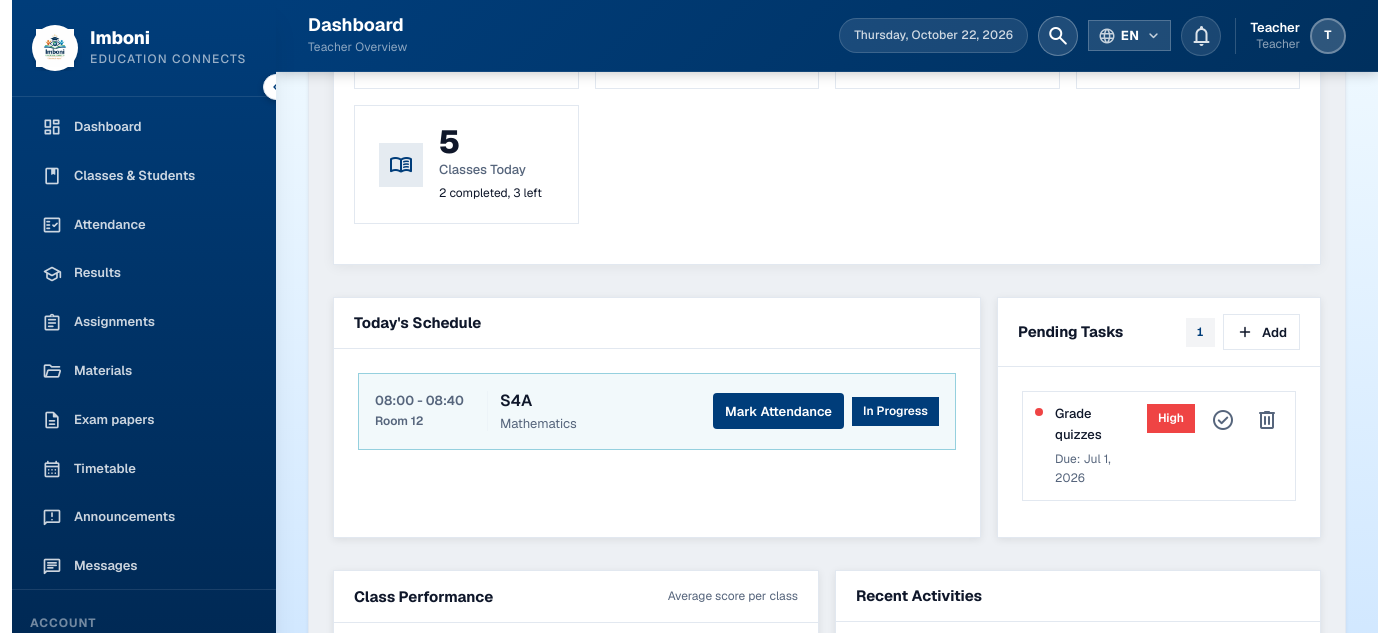
Test: TeacherDashboard › deletes a task, and keeps it with a message when the delete fails
The width and height of the screenshot is (1378, 633).
(page scrolled)
Expected: the text "Grade quizzes" is shown, [1055,405,1102,443]
Click the button named "Delete task".
click(1267, 420)  # box [1251,404,1283,436]
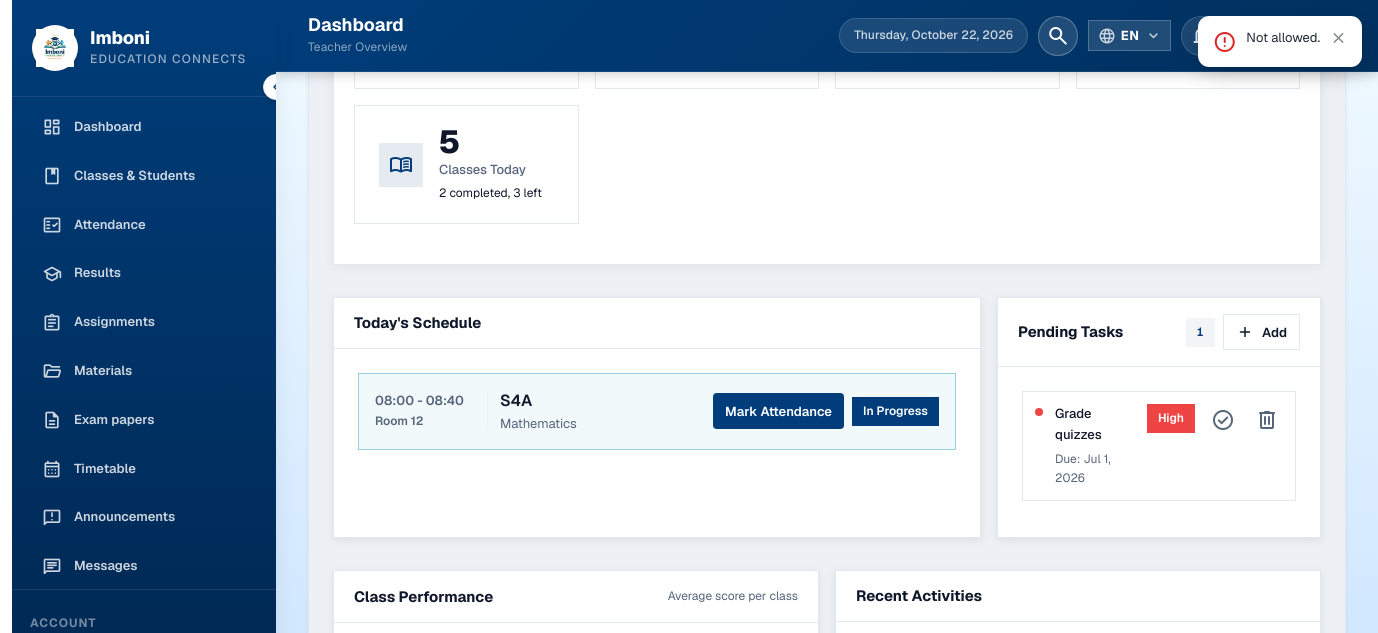
Expected: the text "Grade quizzes" is shown, [1055,405,1102,443]
Now the text "Not allowed." is shown, box [1246,29,1320,47]
Click the button named "Delete task".
click(1267, 420)  # box [1251,404,1283,436]
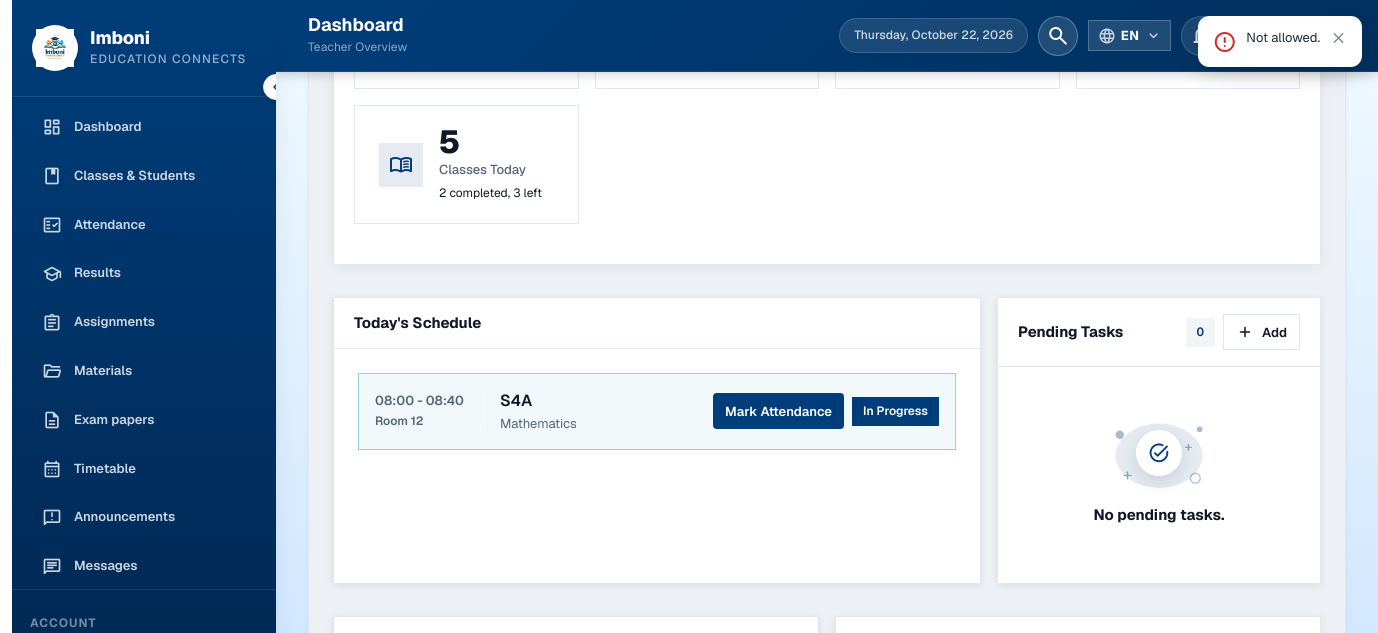
Now the text "Grade quizzes" is gone
